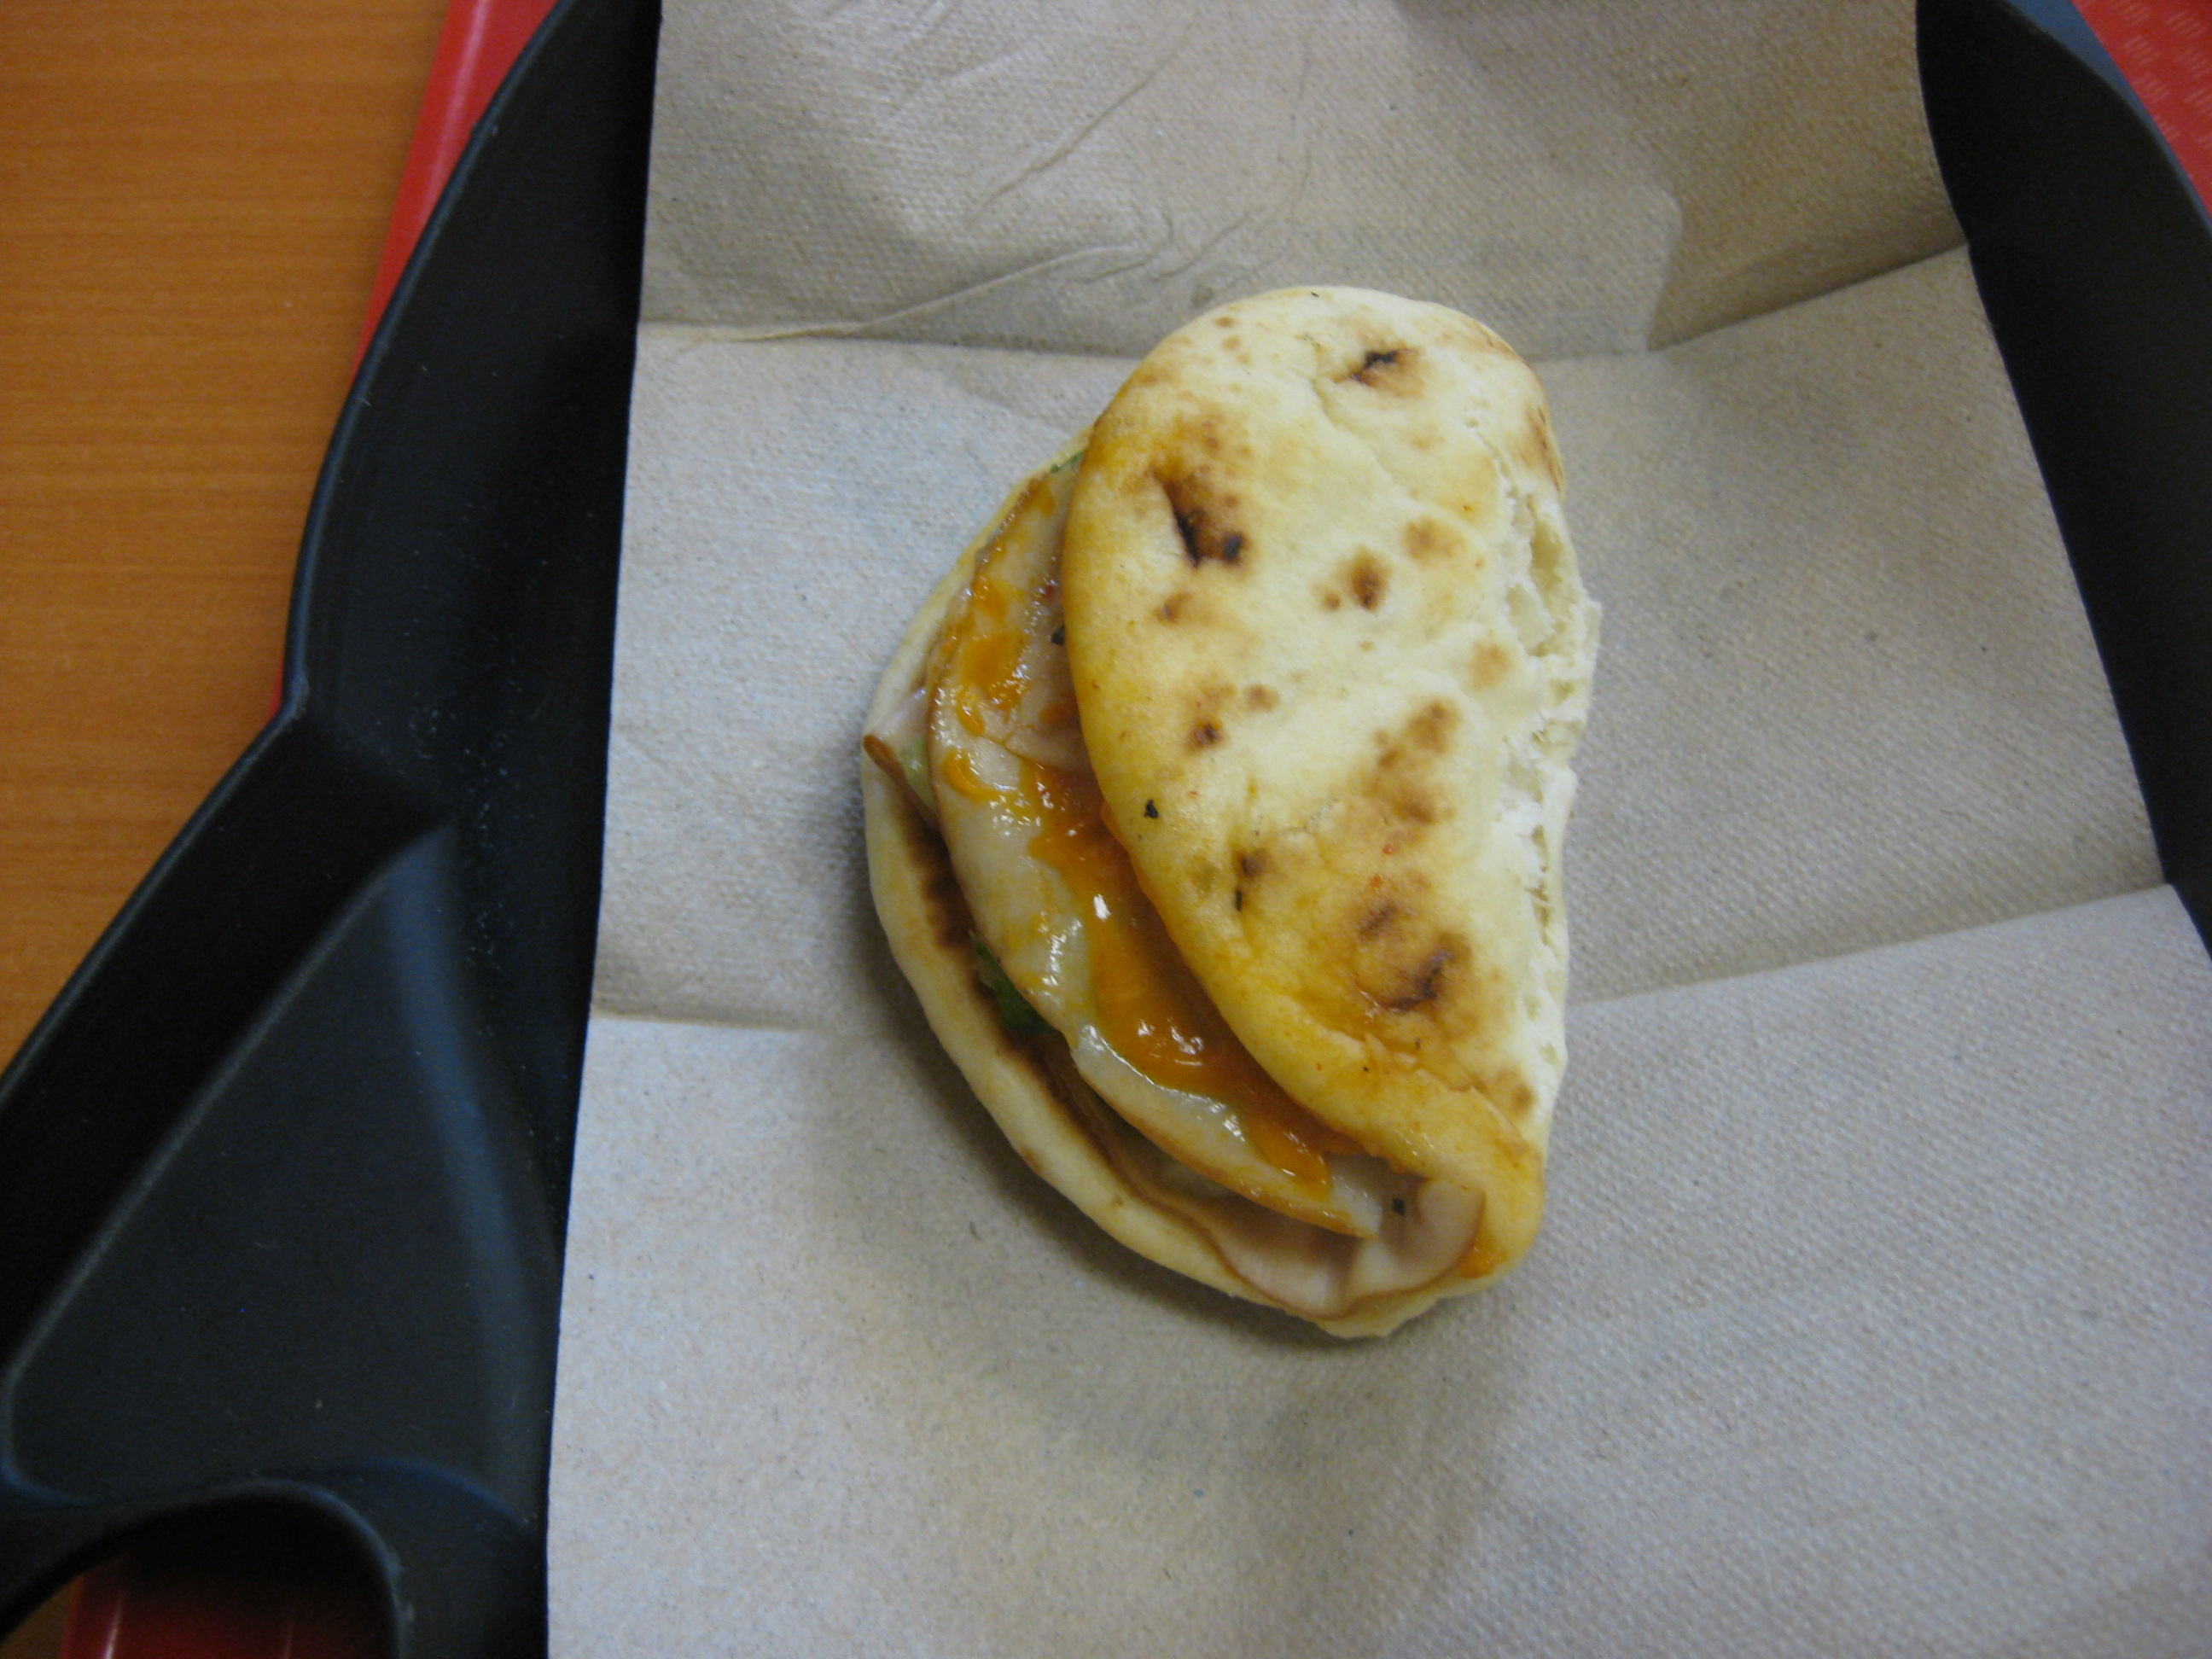taco: (842, 191, 1670, 1390)
